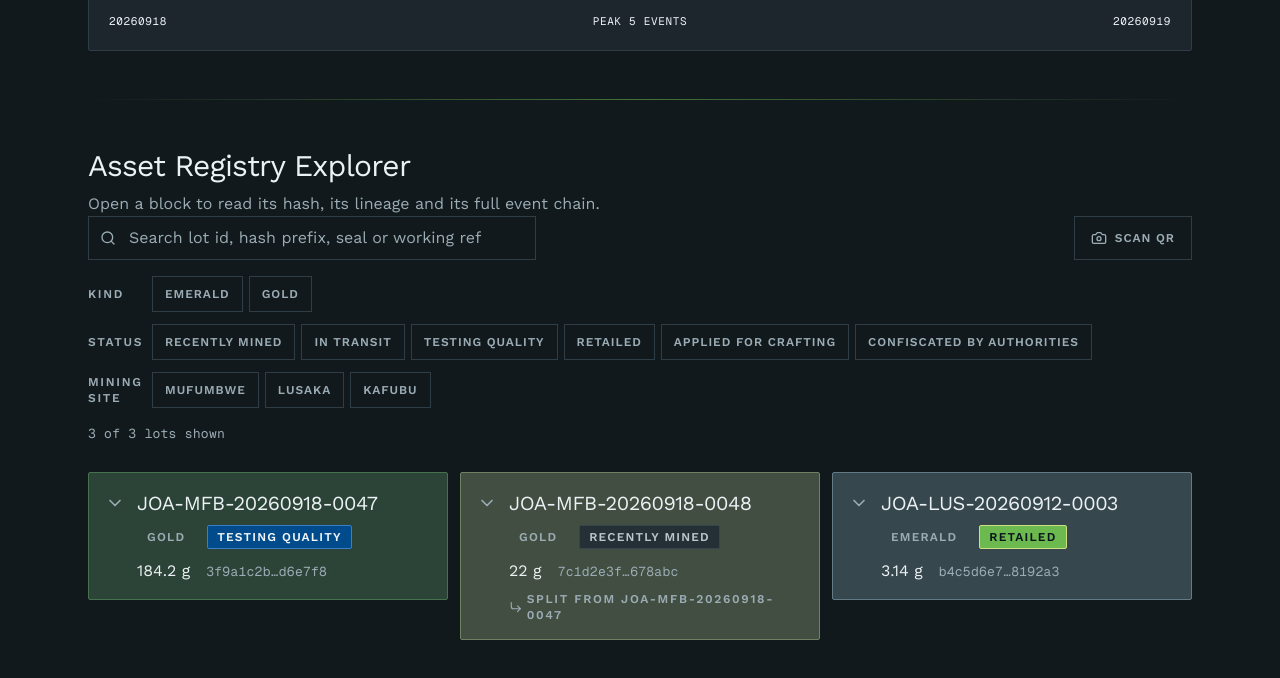
Test: Library home page › shows the empty state when a site filter matches no lots
(page scrolled)
Expected: the text "JOA-MFB-20260918-0047" is shown, [137,488,377,516]
KFB has no seed lots, so the site chip narrows to nothing.
Click the button with test id "register.filter.site.KFB" at x=390, y=390, box [350,372,431,408]
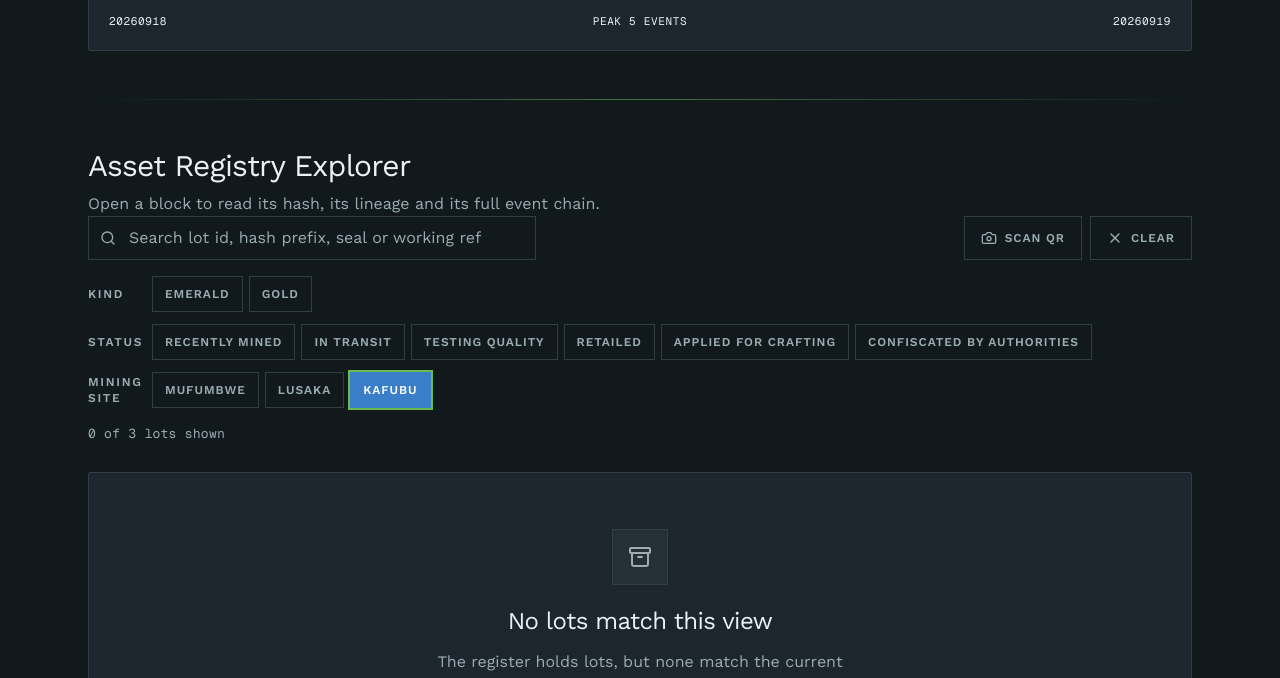
Expected: the text "No lots match this view" is shown, [508,604,772,636]
